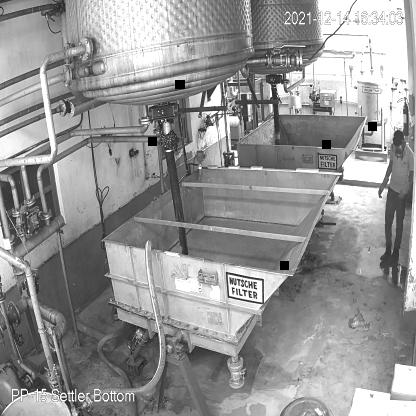shoes: (386, 245, 401, 266)
